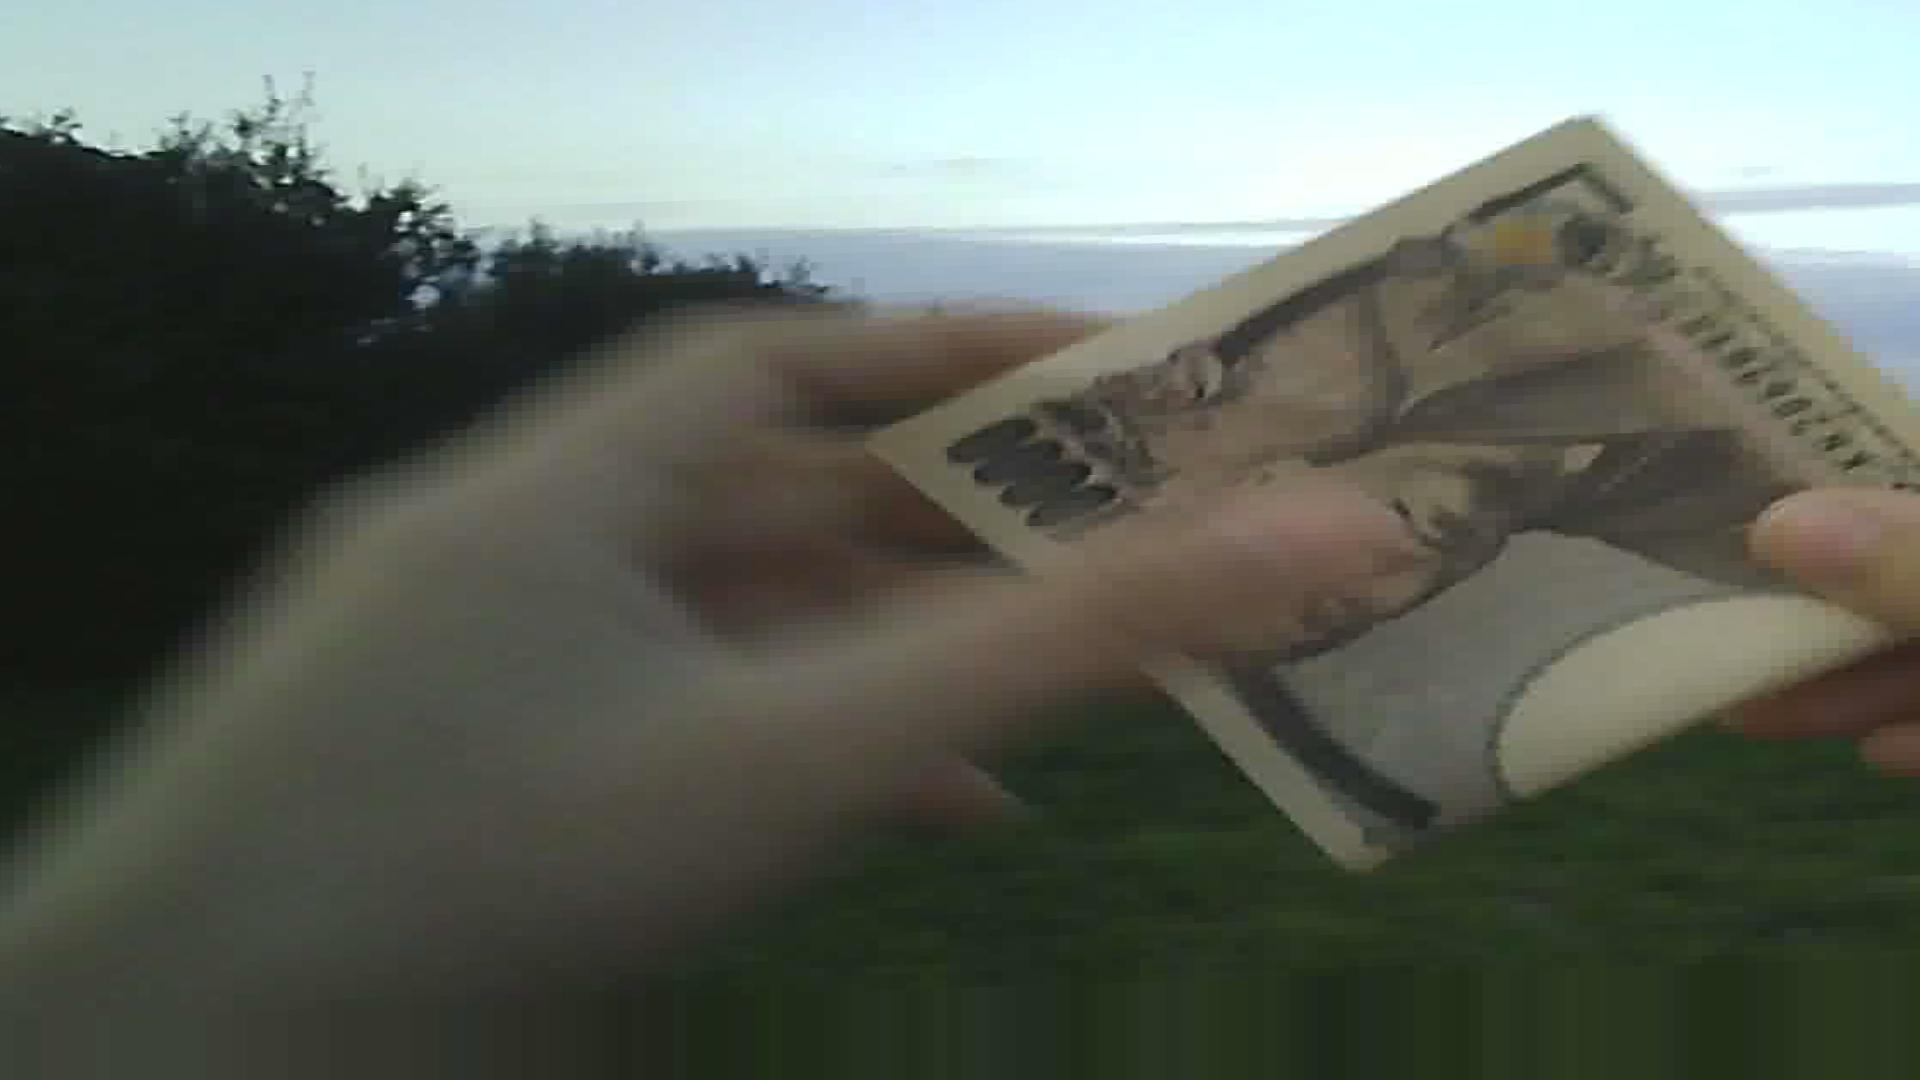10,000 Yen: (855, 127, 1883, 876)
